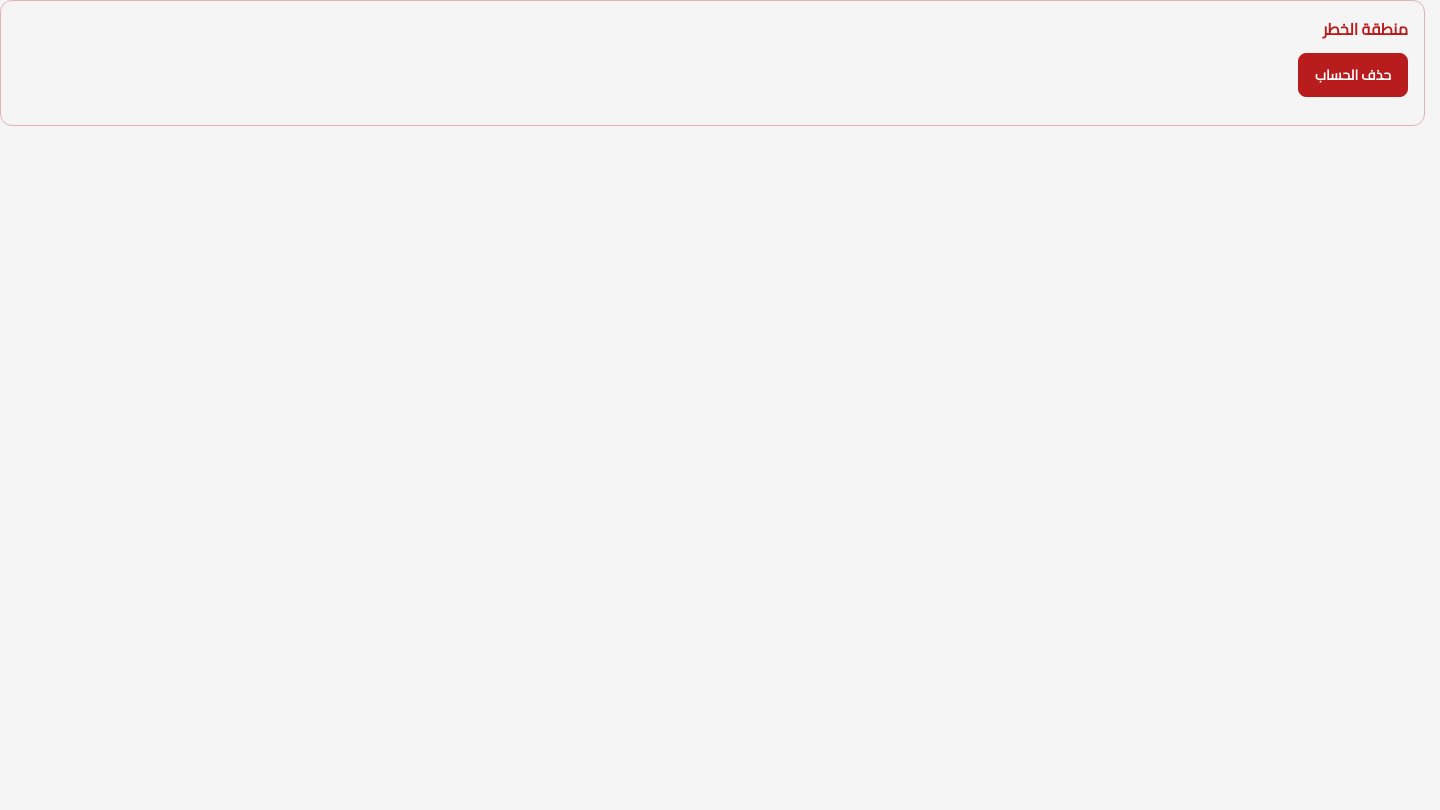
Test case: preserves the session and cache on failure and allows cancellation
Later steps or results of the test are not shown.
What coordinates should you click on to do the following:
click the button "حذف الحساب"
I would click on:
 (1353, 75)
Its box is top-left (1298, 53), bottom-right (1408, 97).
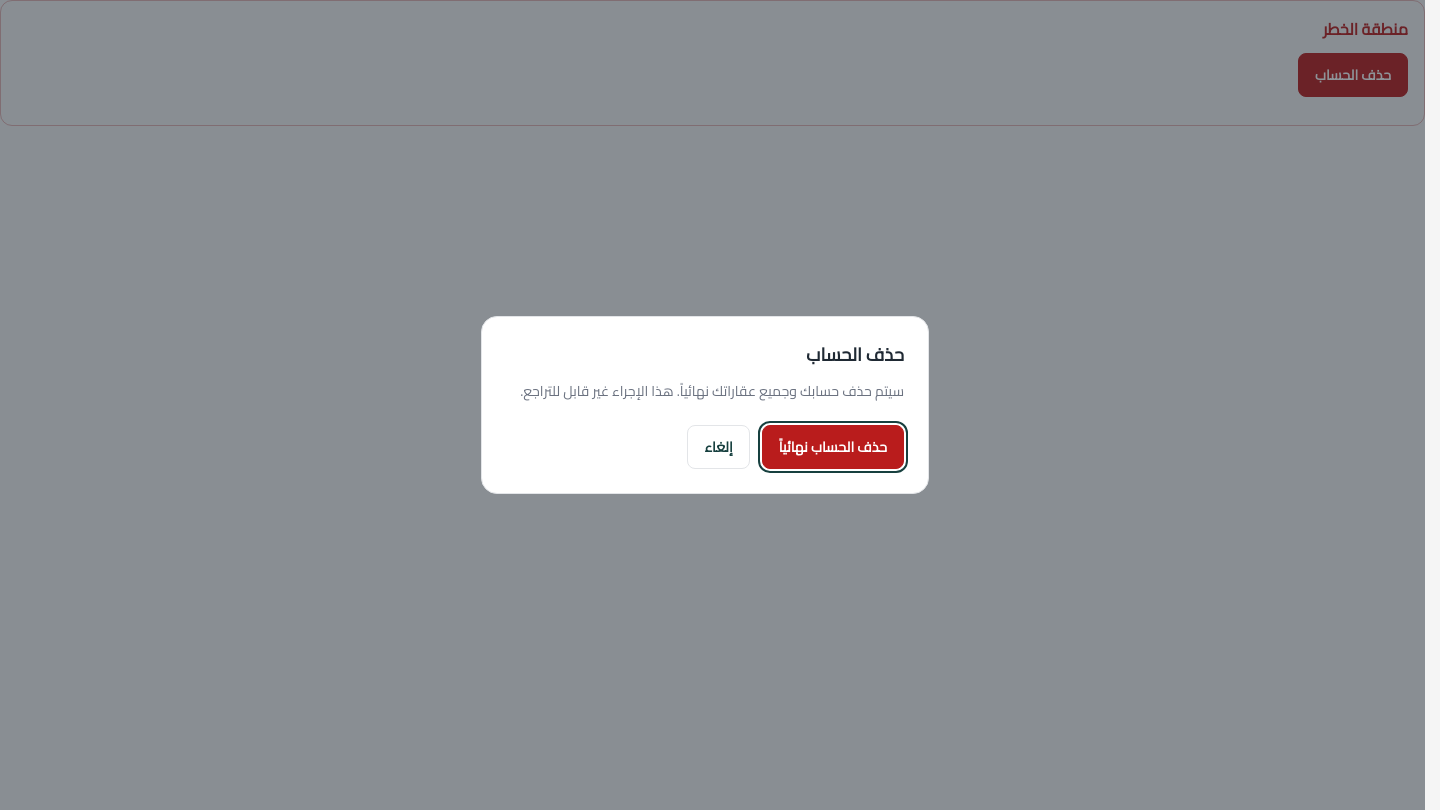
What coordinates should you click on to do the following:
click the button "حذف الحساب نهائياً"
I would click on:
 (833, 447)
Its box is top-left (762, 425), bottom-right (904, 469).
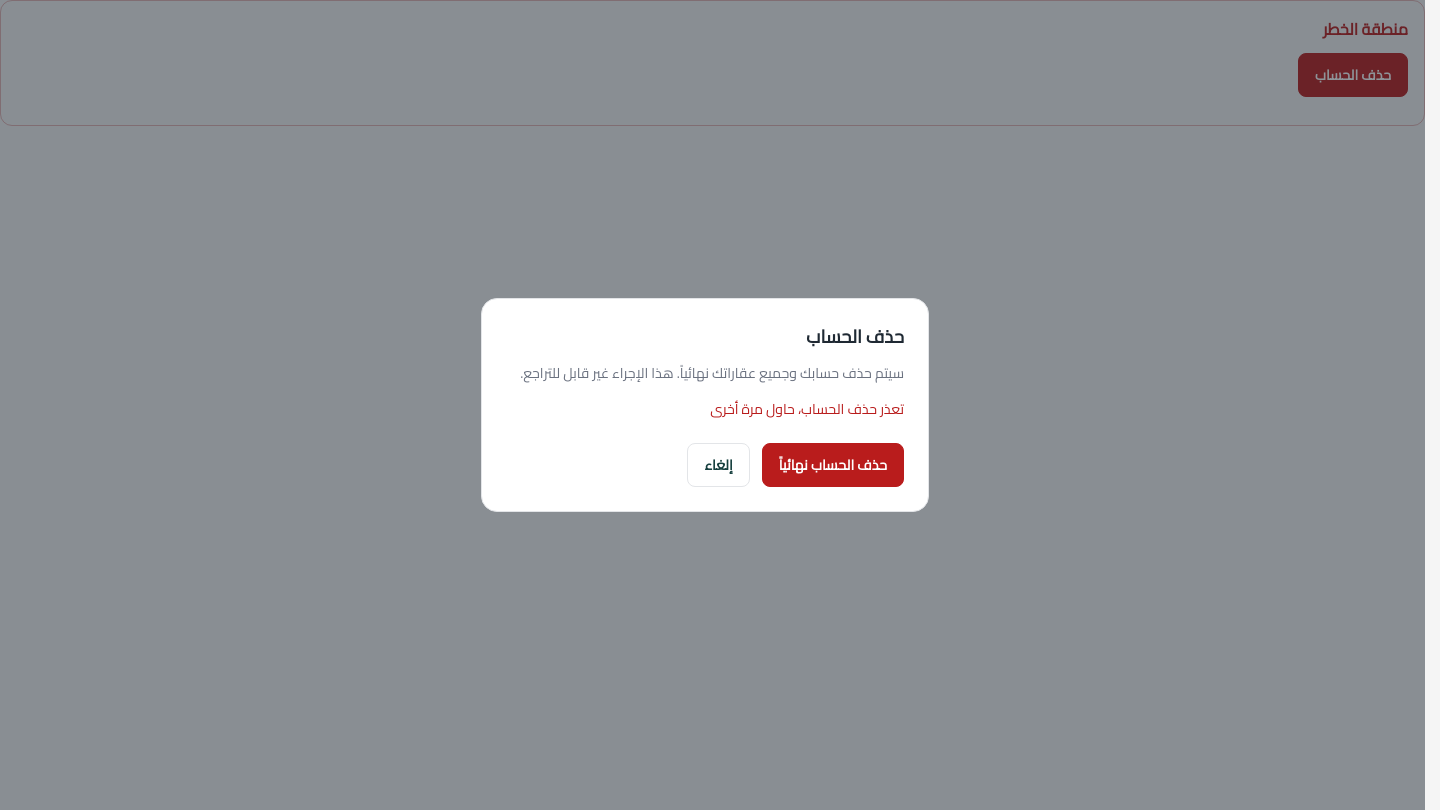
Expected: the message "تعذر حذف الحساب، حاول مرة أخرى" is shown, top-left (710, 396), bottom-right (904, 422)
